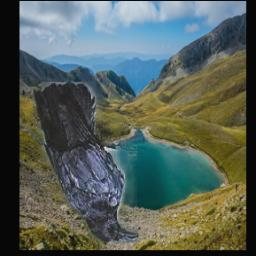Crow: (33, 83, 137, 243)
